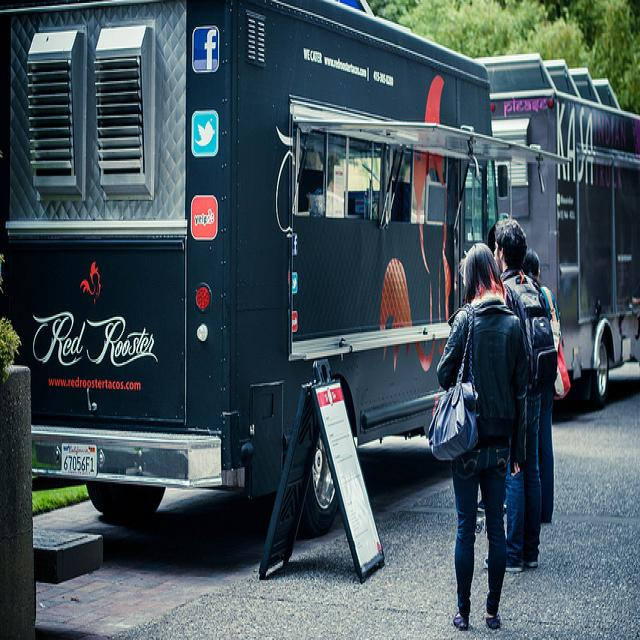Vehicle: (3, 3, 569, 582), (473, 53, 638, 400), (483, 51, 640, 408)
